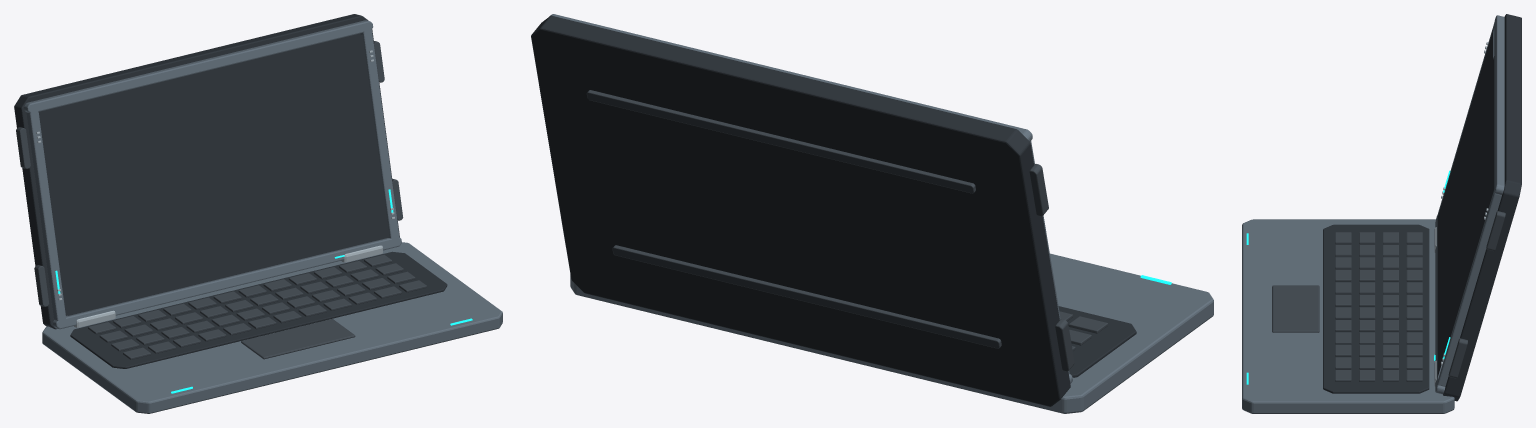
The model's file is FZH_Kinetic_Laptop.glb.
The picture shows the model from 3 angles, left to right: view 1: azimuth 30°, elevation 25°; view 2: azimuth 150°, elevation 25°; view 3: azimuth 270°, elevation 25°; orthographic projection. The views are drawn at different scales.
Parts seen in each view (by area): view 1: Laptop_Screen, Laptop_Base, Laptop_Bezel, Laptop_Keys, Laptop_KeyboardDeck, Laptop_Chassis, Laptop_Trackpad, Laptop_Left_Segments, Laptop_Right_Segments; view 2: Laptop_Chassis, Laptop_Base, Laptop_Back, Laptop_KeyboardDeck, Laptop_Bezel, Laptop_Left_Segments, Laptop_Keys; view 3: Laptop_Base, Laptop_Keys, Laptop_KeyboardDeck, Laptop_Screen, Laptop_Chassis, Laptop_Bezel, Laptop_Trackpad, Laptop_Right_Segments.
Part boxes in pixels (left/top/right/bottom): Laptop_Screen: left=41, top=34, right=389, bottom=315; Laptop_Base: left=42, top=242, right=502, bottom=413; Laptop_Bezel: left=24, top=20, right=401, bottom=329; Laptop_Keys: left=88, top=254, right=426, bottom=359; Laptop_KeyboardDeck: left=70, top=251, right=447, bottom=368; Laptop_Chassis: left=14, top=14, right=399, bottom=329; Laptop_Trackpad: left=241, top=319, right=355, bottom=359; Laptop_Left_Segments: left=16, top=127, right=49, bottom=306; Laptop_Right_Segments: left=374, top=41, right=403, bottom=220; Laptop_Chassis: left=531, top=15, right=1070, bottom=406; Laptop_Base: left=570, top=253, right=1213, bottom=413; Laptop_Back: left=586, top=90, right=1001, bottom=348; Laptop_KeyboardDeck: left=1058, top=306, right=1136, bottom=377; Laptop_Bezel: left=549, top=14, right=1072, bottom=383; Laptop_Left_Segments: left=1029, top=164, right=1074, bottom=371; Laptop_Keys: left=1059, top=311, right=1107, bottom=350; Laptop_Base: left=1242, top=219, right=1454, bottom=413; Laptop_Keys: left=1335, top=232, right=1422, bottom=381; Laptop_KeyboardDeck: left=1323, top=224, right=1429, bottom=393; Laptop_Screen: left=1437, top=31, right=1492, bottom=376; Laptop_Chassis: left=1443, top=14, right=1521, bottom=401; Laptop_Bezel: left=1435, top=15, right=1504, bottom=394; Laptop_Trackpad: left=1272, top=285, right=1319, bottom=332; Laptop_Right_Segments: left=1448, top=211, right=1505, bottom=378.
Size of what is drawn, in the model's own units: 3.1 by 1.78 by 2.
